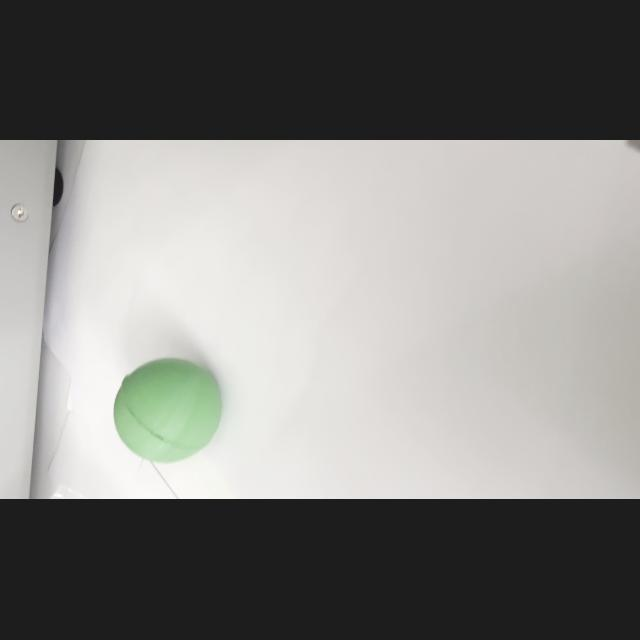objects: (105, 352, 232, 470)
